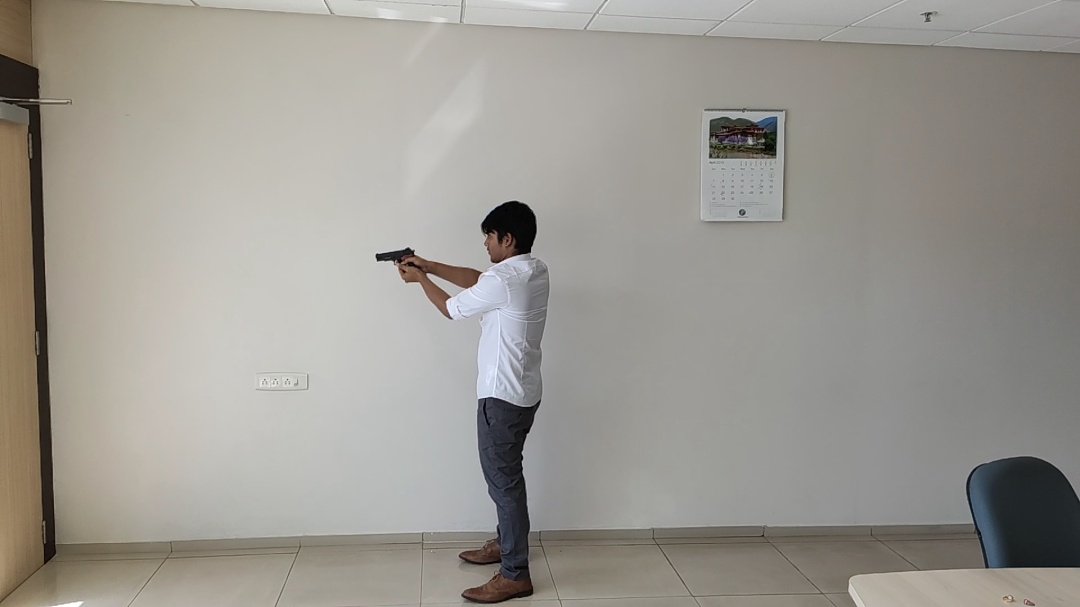gun: (375, 247, 415, 268)
